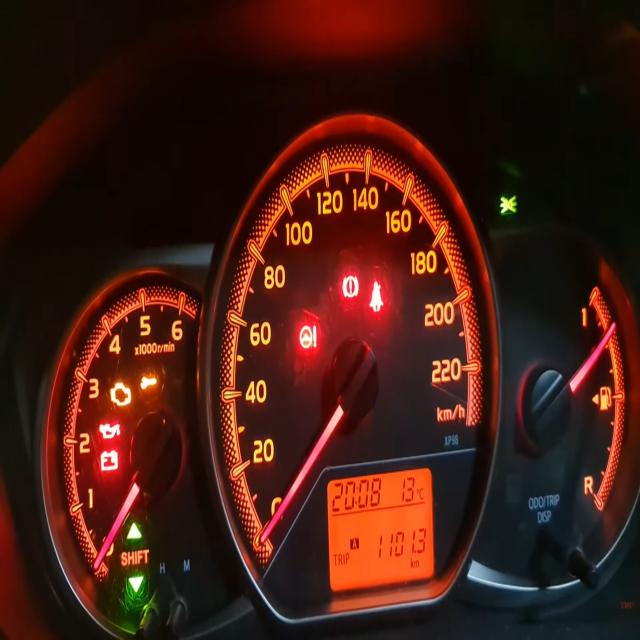Braking System Issue: (342, 274, 360, 300)
Charging System Issue: (100, 450, 119, 472)
Check Engine: (110, 380, 132, 408)
Low Engine Oil Warning Light: (99, 422, 121, 441)
